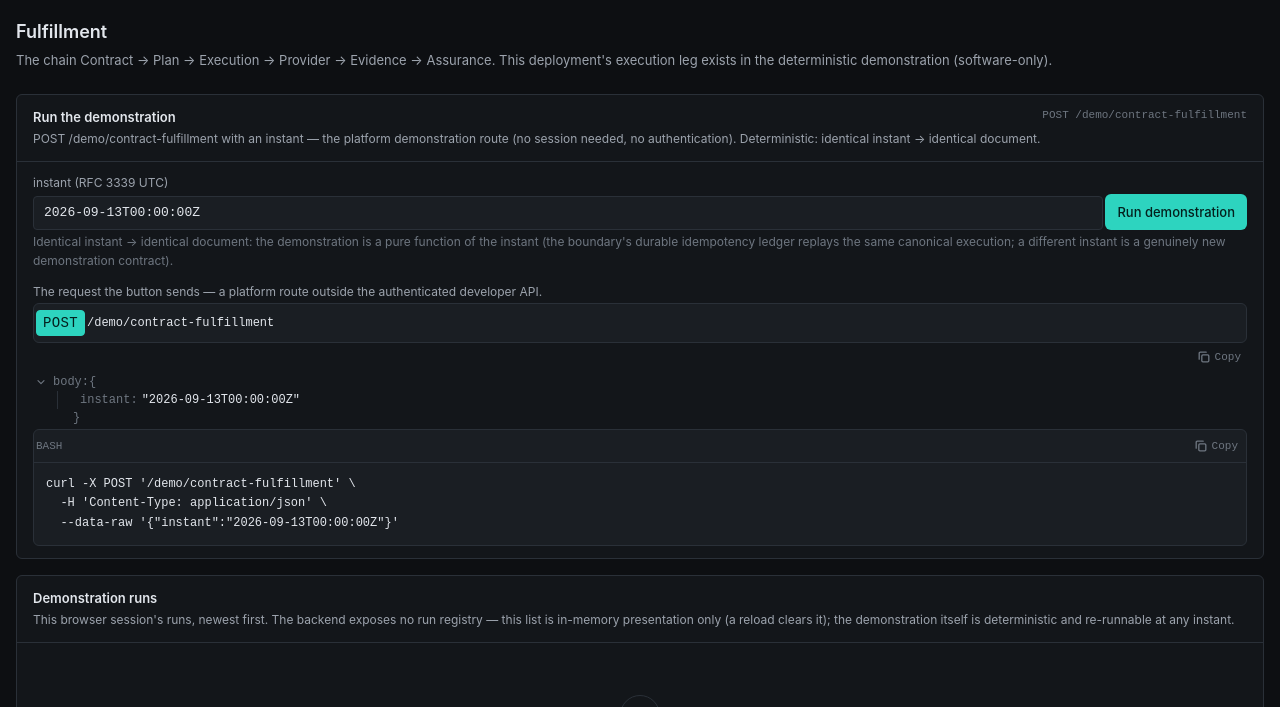
Test: Fulfillment overview › POSTs {instant} to /demo/contract-fulfillment and shows the summary
This screenshot has width=1280, height=707.
Click the button "Run demonstration" at (1176, 212), box [1105,194,1247,230]
(page scrolled)
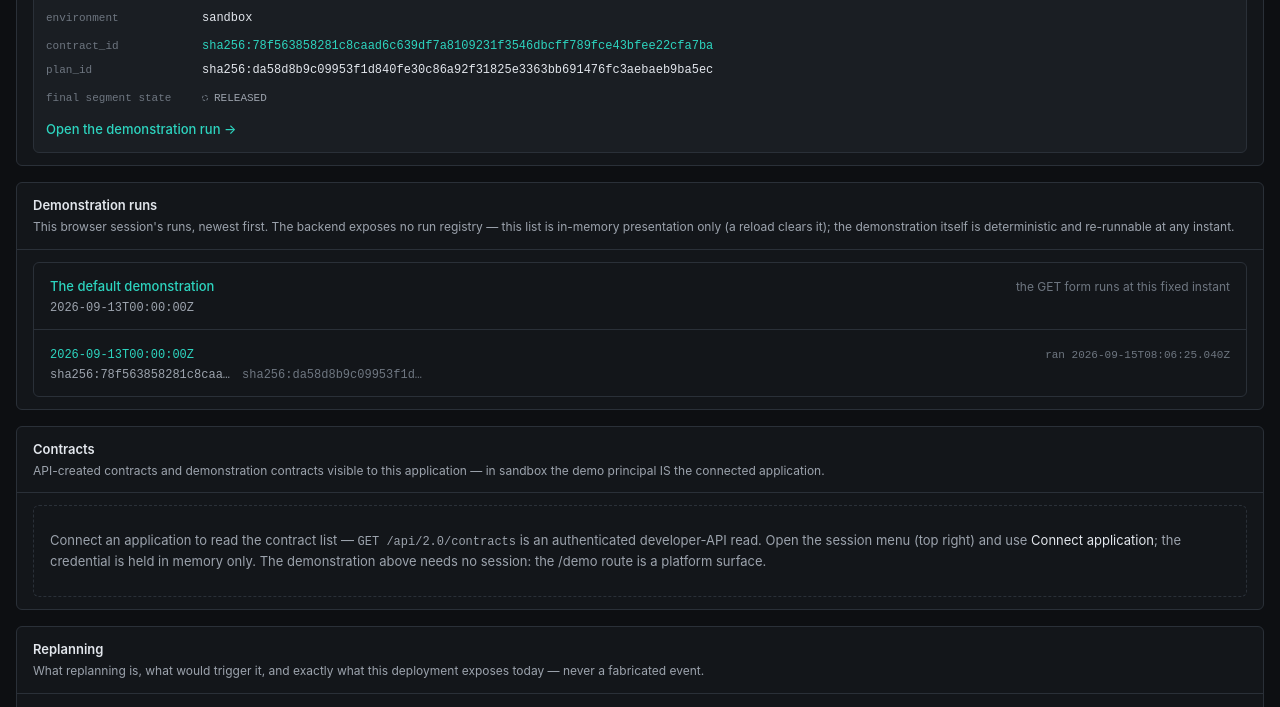
Expected: the text "sha256:da58d8b9c09953f1d840fe30c86a92f31825e3363bb691476fc3aebaeb9ba5ec" is shown, [202,63,713,77]
Expected: the text "RELEASED" is shown, [214,90,267,106]
